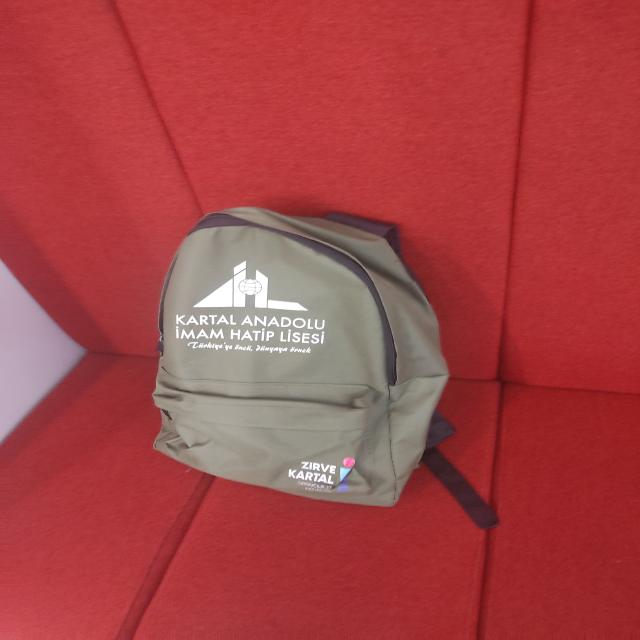bag: (141, 204, 446, 517)
